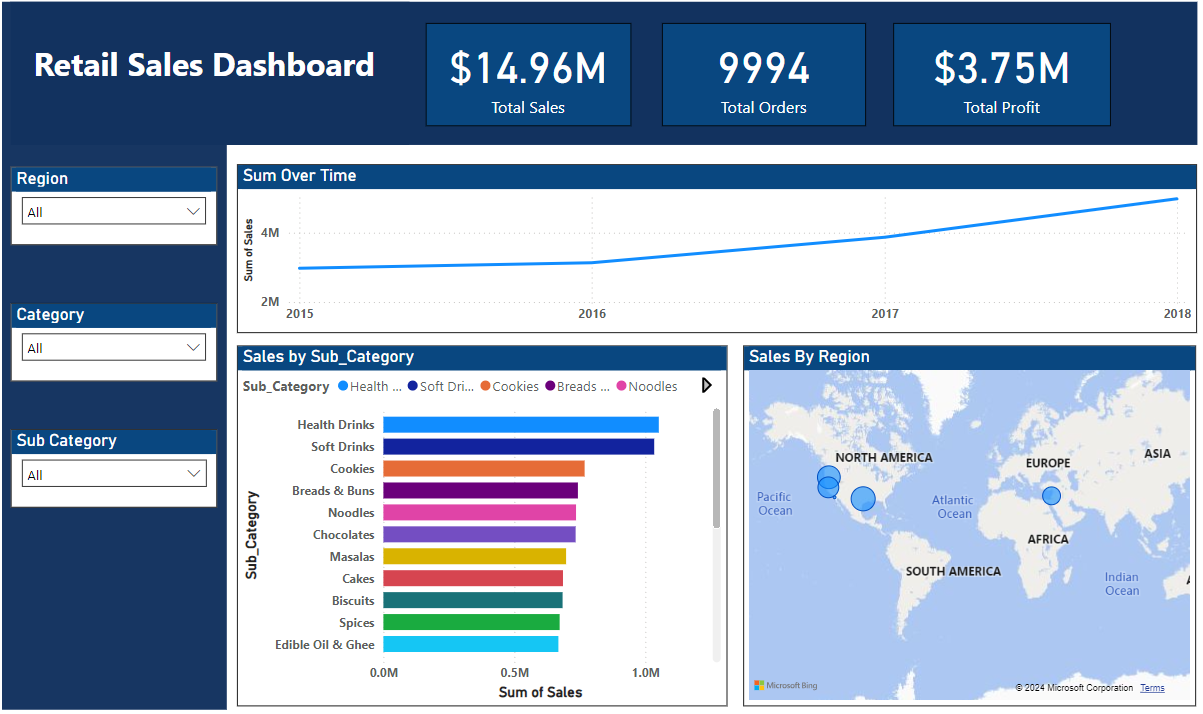

Layout of this report page (visuals, bound fields, positions):
{"tool":"powerbi","page":{"name":"Page 1","canvas":[1280,720],"ordinal":0},"visuals":[{"type":"barChart","title":"Sales by Sub_Category ","fields":{"Category":["cleaned_retail_sales_data.Sub_Category"],"Series":["cleaned_retail_sales_data.Sub_Category"],"Y":["Sum(cleaned_retail_sales_data.Sales)"]},"box":[245.1,347.1,490.1,360.7],"z":2000},{"type":"lineChart","title":"Sum Over Time","fields":{"Category":["cleaned_retail_sales_data.Order_Date.Variation.Date Hierarchy.Year","cleaned_retail_sales_data.Order_Date.Variation.Date Hierarchy.Quarter","cleaned_retail_sales_data.Order_Date.Variation.Date Hierarchy.Month","cleaned_retail_sales_data.Order_Date.Variation.Date Hierarchy.Day"],"Y":["Sum(cleaned_retail_sales_data.Sales)"]},"box":[245.1,166.7,960.3,169.2],"z":3000},{"type":"map","title":"Sales By Region ","fields":{"Category":["cleaned_retail_sales_data.Region"],"Size":["Sum(cleaned_retail_sales_data.Sales)"]},"box":[751.4,347.1,452.8,360.7],"z":4000},{"type":"textbox","box":[10.1,4.3,225.1,708.4],"z":9000},{"type":"textbox","box":[235.1,3.7,970.3,143.1],"z":9062},{"type":"textbox","box":[18.7,3.7,398.1,143.1],"z":9125},{"type":"slicer","title":"Category","fields":{"Values":["cleaned_retail_sales_data.Category"]},"box":[19,305,206,78],"z":9250},{"type":"card","fields":{"Values":["Count(cleaned_retail_sales_data.Order_ID)"]},"box":[670.5,24.9,204,103.2],"z":9312},{"type":"card","fields":{"Values":["Sum(cleaned_retail_sales_data.Sales)"]},"box":[434.1,24.9,205.3,103.2],"z":9343},{"type":"card","fields":{"Values":["Sum(cleaned_retail_sales_data.Profit)"]},"box":[901.9,24.9,217.7,103.2],"z":9375},{"type":"slicer","title":"Region","fields":{"Values":["cleaned_retail_sales_data.Region"]},"box":[19,169,206,78],"z":9500},{"type":"slicer","title":"Sub Category","fields":{"Values":["cleaned_retail_sales_data.Sub_Category"]},"box":[18.7,431.7,206.5,78.4],"z":9501}]}

Visuals, with their boxes on the page's 1280x720 design canvas (x1, y1, x2, y2). These are canvas units, not pixel positions in the 1203x714 screenshot, which may show the page scaled, cropped or inside an application window:
"Sales by Sub_Category " barChart: 245:347:735:708
"Sum Over Time" lineChart: 245:167:1205:336
"Sales By Region " map: 751:347:1204:708
textbox: 10:4:235:713
textbox: 235:4:1205:147
textbox: 19:4:417:147
"Category" slicer: 19:305:225:383
card - Count(cleaned_retail_sales_data.Order_ID): 670:25:874:128
card - Sum(cleaned_retail_sales_data.Sales): 434:25:639:128
card - Sum(cleaned_retail_sales_data.Profit): 902:25:1120:128
"Region" slicer: 19:169:225:247
"Sub Category" slicer: 19:432:225:510
